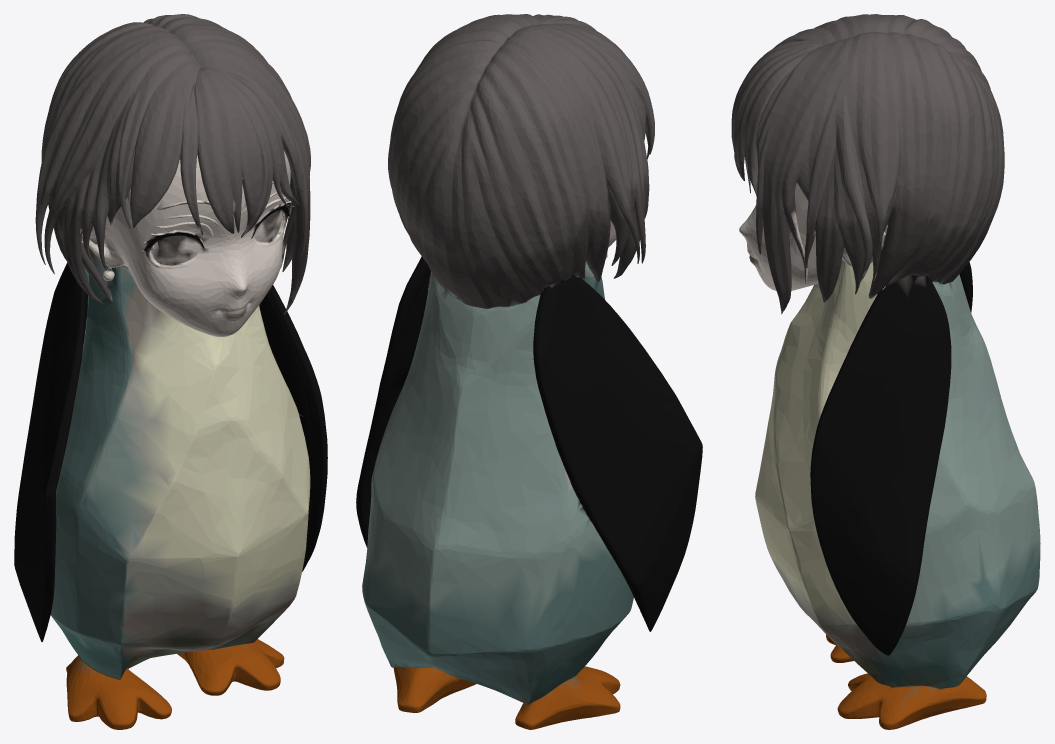
The model's file is penguin_bambu.glb.
3 views of the same model, side by side, from view 1: azimuth 30°, elevation 25°; view 2: azimuth 150°, elevation 25°; view 3: azimuth 270°, elevation 25° (orthographic). The views are drawn at different scales.
Parts seen in each view (by area): view 1: geometry_0; view 2: geometry_0; view 3: geometry_0.
Boxes of the visible parts, <box> form: geometry_0: <box>14,14,327,729</box>; geometry_0: <box>356,14,702,729</box>; geometry_0: <box>731,14,1040,729</box>.
Bounding box in the file's own units: 0.7336 × 1.55 × 0.6691.
